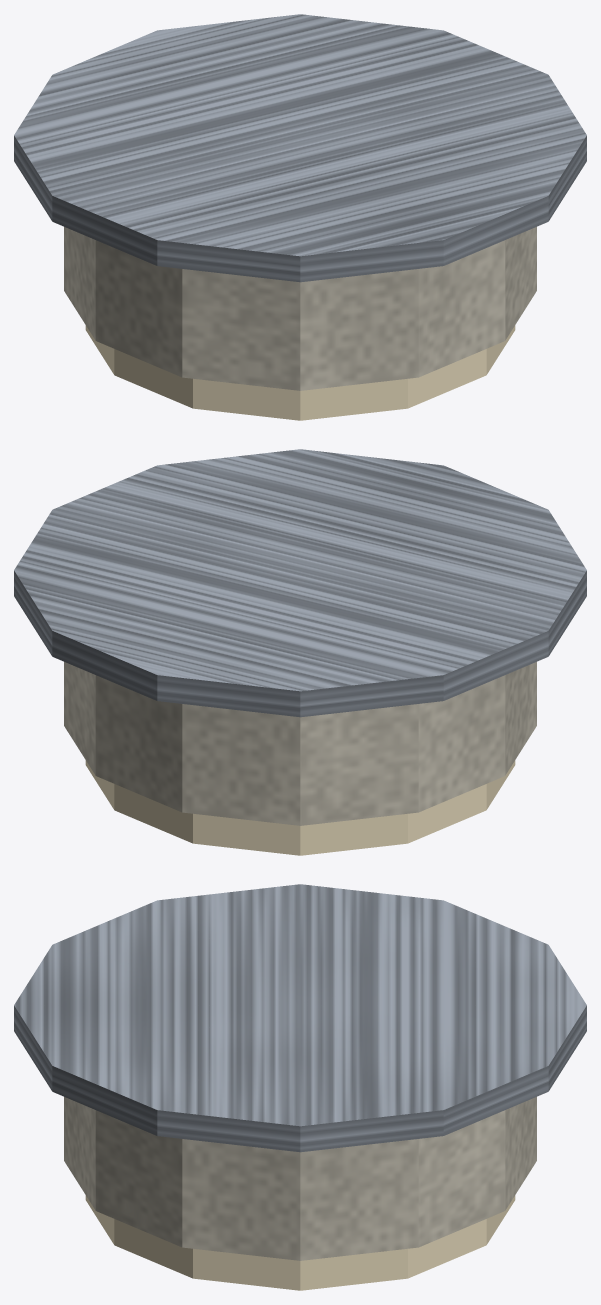
The model's file is flush_lamp.fbx.
3 renders of one model, top to bottom at view 1: azimuth 30°, elevation 25°; view 2: azimuth 150°, elevation 25°; view 3: azimuth 270°, elevation 25°, orthographic.
Visible parts, largest first — view 1: flush_lamp; view 2: flush_lamp; view 3: flush_lamp.
Boxes of the visible parts, bbox=[...] form: flush_lamp: bbox=[14, 14, 586, 420]; flush_lamp: bbox=[14, 449, 586, 855]; flush_lamp: bbox=[14, 884, 586, 1290].
Size of the model in its own units: 40 by 15 by 40.
